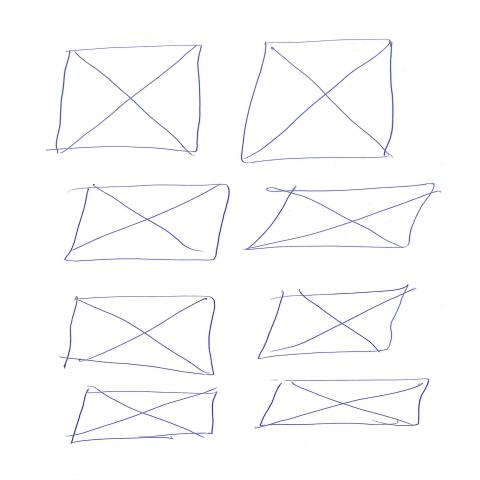Image: (239, 38, 397, 166), (54, 43, 204, 155), (243, 182, 439, 252), (63, 183, 233, 263), (64, 295, 220, 379), (255, 287, 410, 361), (256, 378, 432, 430), (68, 389, 218, 445)
